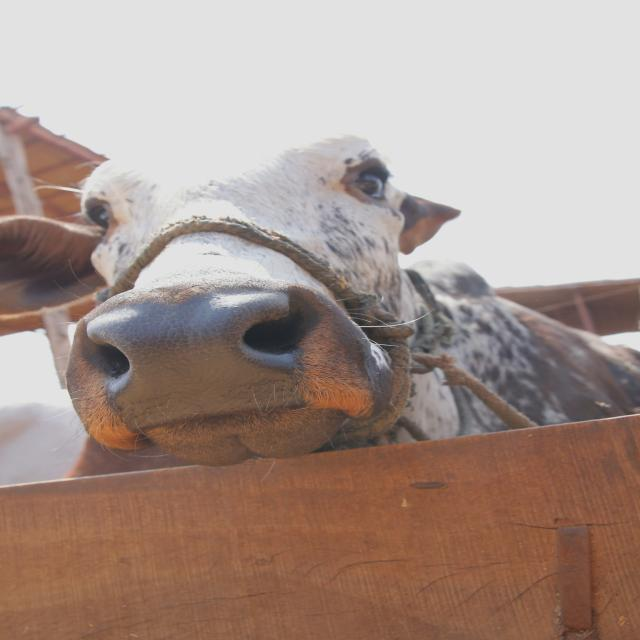muzzles: (78, 287, 336, 430)
